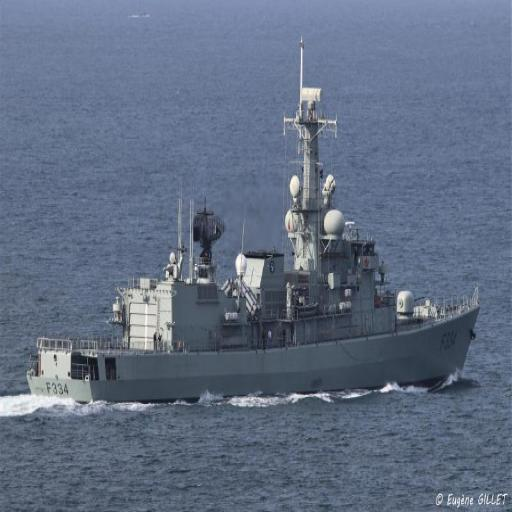Fragata: (25, 36, 486, 411)
